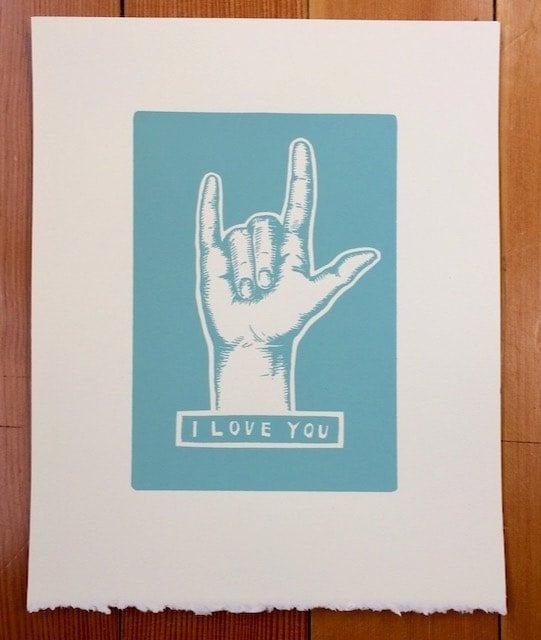Love_you: (184, 126, 386, 422)
